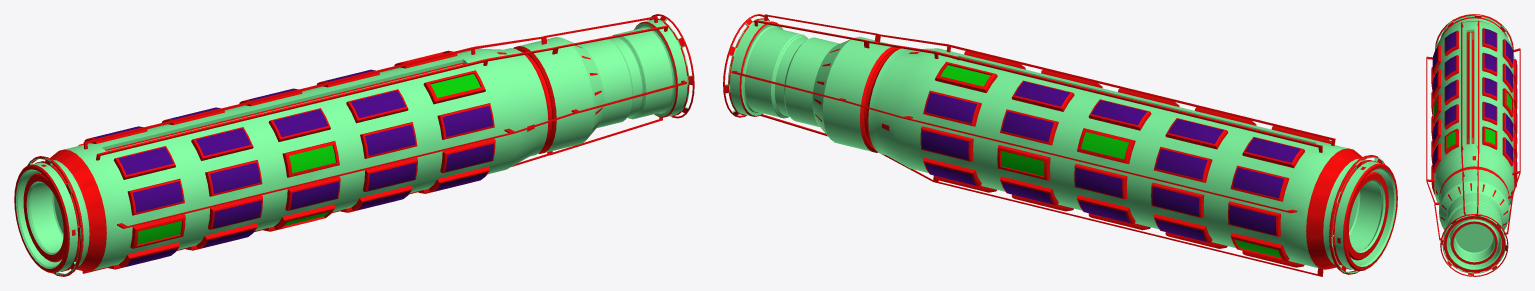
The model's file is mod2.obj.
The picture shows the model from 3 angles, left to right: view 1: azimuth 30°, elevation 25°; view 2: azimuth 150°, elevation 25°; view 3: azimuth 270°, elevation 25°; orthographic projection. The views are drawn at different scales.
Parts seen in each view (by area): view 1: module2.001_2body, module2.001_Material.074, module2.001_Material.072, module2.001_Material.073; view 2: module2.001_2body, module2.001_Material.074, module2.001_Material.072, module2.001_Material.073; view 3: module2.001_2body, module2.001_Material.074, module2.001_Material.072, module2.001_Material.073.
Part boxes in pixels (x1,y1,x2,y2): module2.001_2body: [16, 18, 692, 275]; module2.001_Material.074: [14, 14, 694, 276]; module2.001_Material.072: [92, 69, 493, 267]; module2.001_Material.073: [137, 74, 480, 244]; module2.001_2body: [725, 16, 1396, 273]; module2.001_Material.074: [723, 14, 1397, 276]; module2.001_Material.072: [921, 81, 1300, 241]; module2.001_Material.073: [940, 65, 1281, 257]; module2.001_2body: [1434, 14, 1514, 276]; module2.001_Material.074: [1426, 14, 1520, 276]; module2.001_Material.072: [1432, 28, 1517, 176]; module2.001_Material.073: [1434, 92, 1511, 148].
Bounding box in the file's own units: 25 × 5 × 5.
